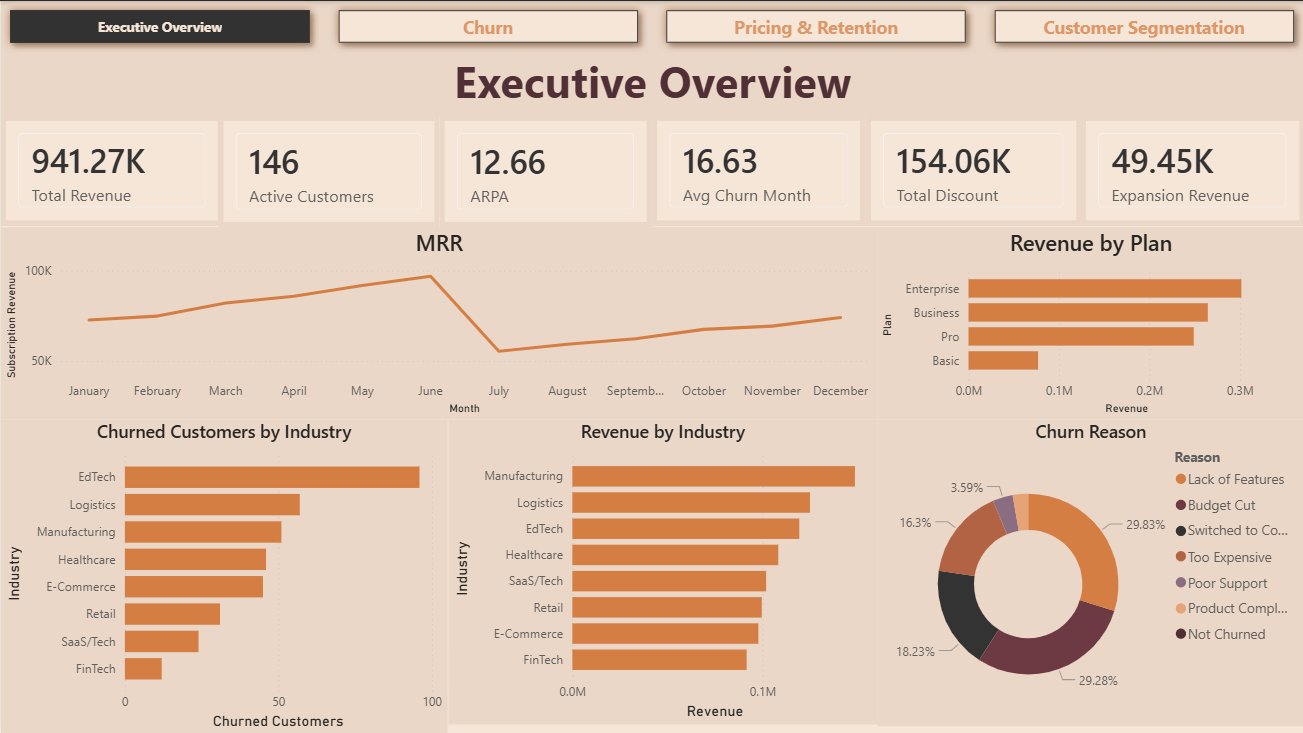

The page's visual inventory and layout, read from the dashboard file:
{"tool":"powerbi","page":{"name":"Executive Overview","canvas":[1280,720],"ordinal":0},"visuals":[{"type":"cardVisual","fields":{"Data":["Sum(novasuite_master.net_revenue)"]},"box":[0,112.9,218.4,108],"z":0},{"type":"cardVisual","fields":{"Data":["Count(novasuite_master.active_users)"]},"box":[213.5,112.9,217.2,109.2],"z":1000},{"type":"cardVisual","fields":{"Data":["Avg(novasuite_master.rev_per_active_user)"]},"box":[430.7,112.9,208.6,109.2],"z":2000},{"type":"cardVisual","fields":{"Data":["Avg(novasuite_master.months_to_churn)"]},"box":[639.3,112.9,209.8,108],"z":3000},{"type":"cardVisual","fields":{"Data":["Sum(novasuite_master.discount)"]},"box":[849.1,112.9,211,108],"z":4000},{"type":"cardVisual","fields":{"Data":["Sum(novasuite_master.expansion_revenue)"]},"box":[1060.1,112.9,219.6,108],"z":5000},{"type":"lineChart","title":"MRR","fields":{"Category":["novasuite_master.month.Variation.Date Hierarchy.Month","novasuite_master.month.Variation.Date Hierarchy.Day"],"Y":["Sum(novasuite_master.subscription_revenue)"]},"box":[0,222.1,860.1,189],"z":6000},{"type":"clusteredBarChart","title":"Revenue by Plan","fields":{"Category":["novasuite_master.plan_name"],"Y":["Sum(novasuite_master.subscription_revenue)"]},"box":[860.1,222.1,419.6,189],"z":7000},{"type":"clusteredBarChart","fields":{"Category":["novasuite_master.industry"],"Y":["Sum(novasuite_master.is_churned)"]},"box":[0,411,438,309.2],"z":8000},{"type":"barChart","title":"Revenue by Industry","fields":{"Category":["novasuite_master.industry"],"Y":["Sum(novasuite_master.subscription_revenue)"]},"box":[439.3,411,420.9,299.4],"z":9000},{"type":"donutChart","title":"Churn Reason ","fields":{"Category":["novasuite_master.churn_reason"],"Y":["Sum(novasuite_master.is_churned)"]},"box":[860.1,411,419.6,300.6],"z":10000},{"type":"textbox","box":[0,44.2,1279.8,68.7],"z":11000},{"type":"pageNavigator","box":[0,0,1279.8,50.3],"z":11004}]}

Visuals, with their boxes in screenshot pixels (x1, y1, x2, y2), scaled from the page's 1280x720 canvas onto the 1303x733 screenshot:
cardVisual - Sum(novasuite_master.net_revenue): select_region(0, 115, 222, 225)
cardVisual - Count(novasuite_master.active_users): select_region(217, 115, 438, 226)
cardVisual - Avg(novasuite_master.rev_per_active_user): select_region(438, 115, 651, 226)
cardVisual - Avg(novasuite_master.months_to_churn): select_region(651, 115, 864, 225)
cardVisual - Sum(novasuite_master.discount): select_region(864, 115, 1079, 225)
cardVisual - Sum(novasuite_master.expansion_revenue): select_region(1079, 115, 1302, 225)
"MRR" lineChart: select_region(0, 226, 876, 419)
"Revenue by Plan" clusteredBarChart: select_region(876, 226, 1302, 419)
clusteredBarChart - novasuite_master.industry x Sum(novasuite_master.is_churned): select_region(0, 418, 446, 732)
"Revenue by Industry" barChart: select_region(447, 418, 876, 723)
"Churn Reason " donutChart: select_region(876, 418, 1302, 724)
textbox: select_region(0, 45, 1302, 115)
pageNavigator: select_region(0, 0, 1302, 51)
